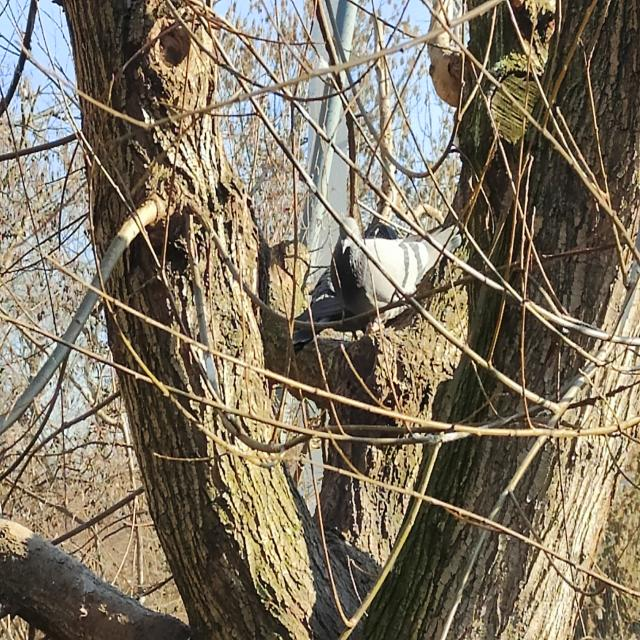bird: (330, 217, 462, 320)
